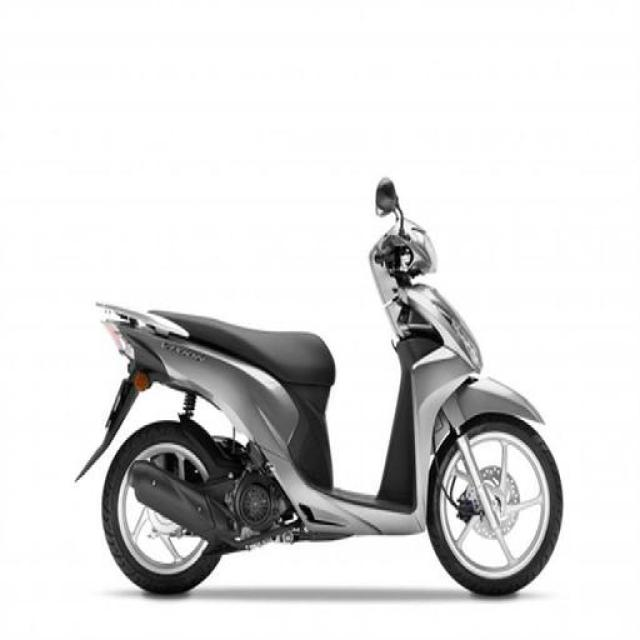All: (71, 218, 569, 600)
Head: (365, 218, 446, 284)
Tail: (92, 293, 161, 366)
